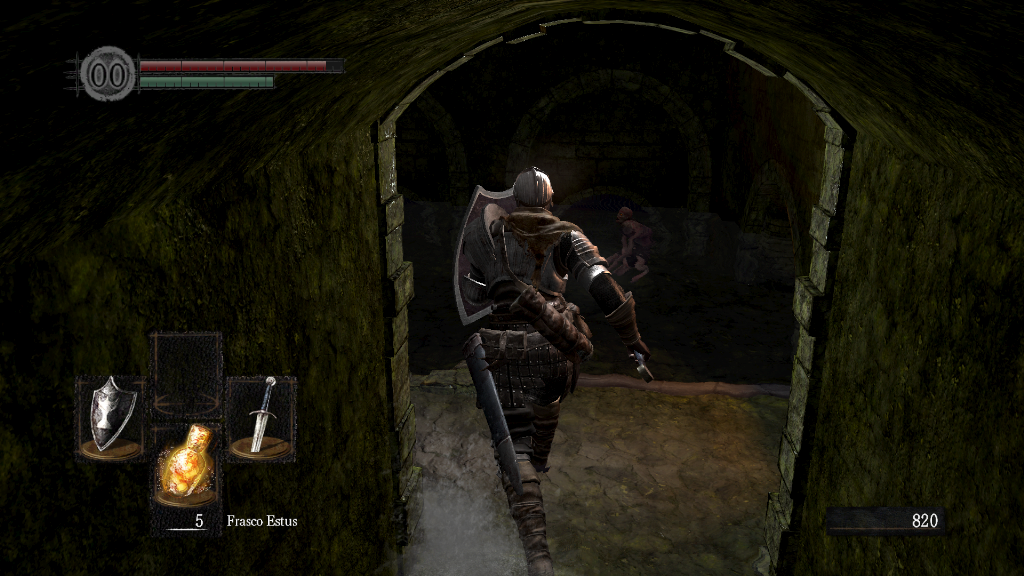health: (138, 58, 343, 71)
hollow: (600, 204, 650, 285)
humanity: (80, 45, 136, 102)
player: (451, 166, 653, 576)
souls: (825, 506, 945, 536)
stamina: (138, 74, 274, 88)
